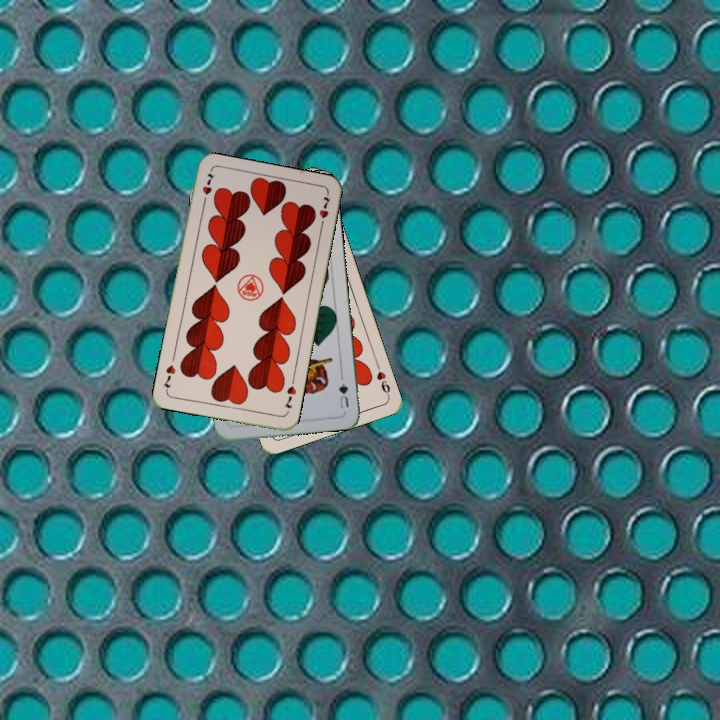GU: (334, 379, 352, 411)
H7: (198, 169, 217, 208), (280, 375, 299, 411)
H9: (372, 360, 393, 399)
